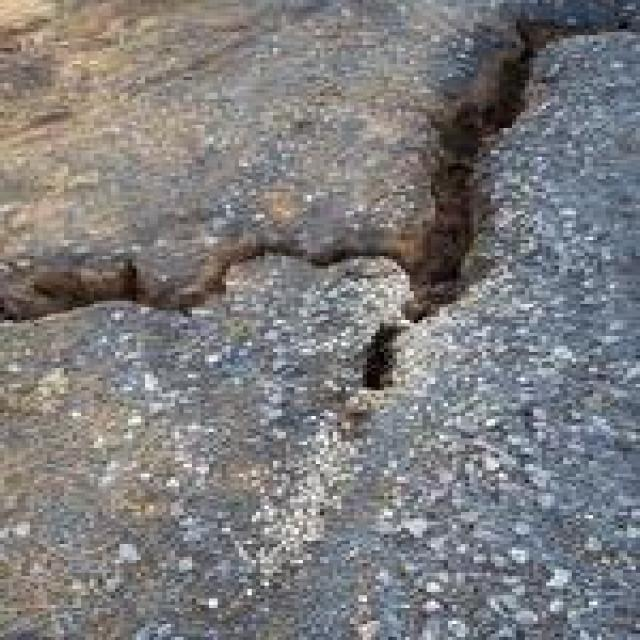road collapse: (47, 0, 640, 413)
